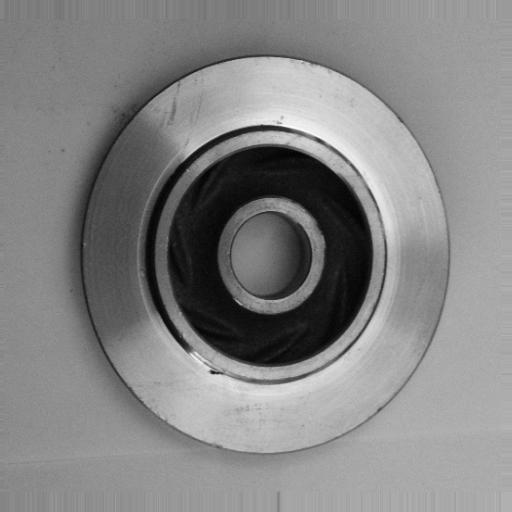crack: (182, 336, 232, 381)
unpolished_casting: (79, 54, 455, 458)
